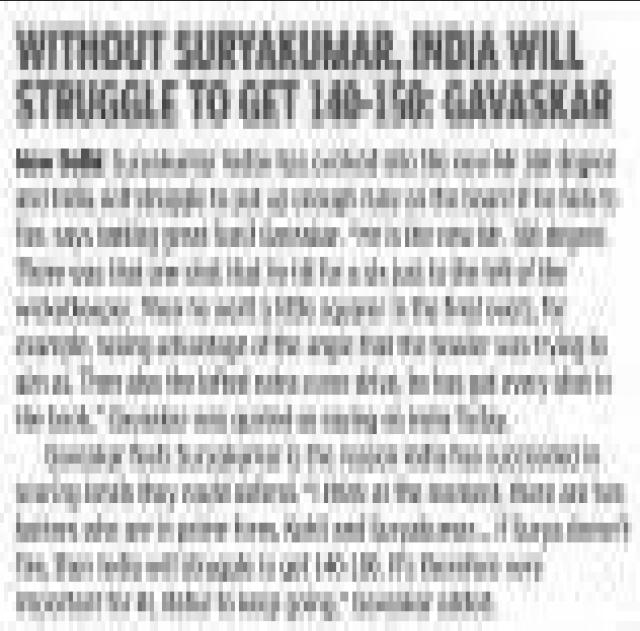paper: (0, 1, 640, 631)
